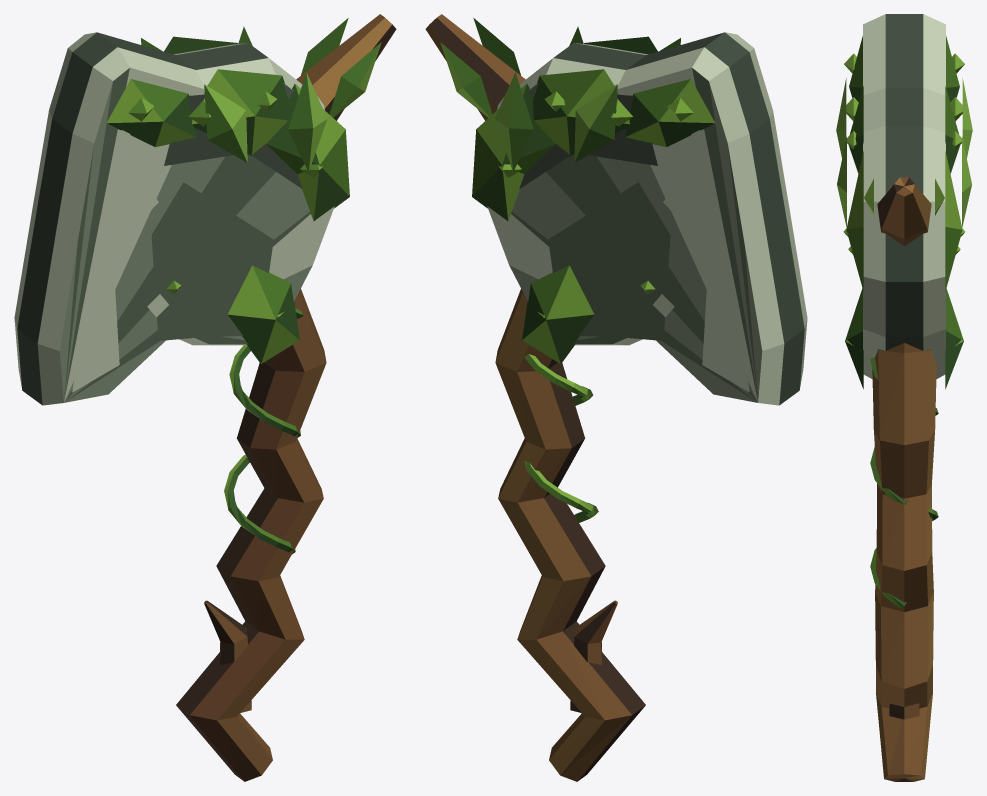
File: nature_axe.glb
3 views of the same model, side by side, from view 1: azimuth 30°, elevation 25°; view 2: azimuth 150°, elevation 25°; view 3: azimuth 270°, elevation 25° (orthographic). The views are drawn at different scales.
Visible parts, largest first — view 1: 04_Stone_Blade, 01_Branch_Handle, 05_Stone_Facets, 06_Raised_Moss, 08_Leaves, 02_Branch_Poll, 09_Winding_Vine, 03_Root_Splinters, 07_Moss_Chunks, 10_Stone_Flecks; view 2: 04_Stone_Blade, 01_Branch_Handle, 05_Stone_Facets, 06_Raised_Moss, 08_Leaves, 02_Branch_Poll, 09_Winding_Vine, 03_Root_Splinters, 07_Moss_Chunks, 10_Stone_Flecks; view 3: 04_Stone_Blade, 01_Branch_Handle, 06_Raised_Moss, 02_Branch_Poll, 08_Leaves, 07_Moss_Chunks, 09_Winding_Vine, 03_Root_Splinters.
Part boxes in pixels (x1=…): 04_Stone_Blade: x1=14, y1=32, x2=334, y2=405; 01_Branch_Handle: x1=176, y1=288, x2=326, y2=781; 05_Stone_Facets: x1=72, y1=94, x2=302, y2=392; 06_Raised_Moss: x1=107, y1=36, x2=349, y2=363; 08_Leaves: x1=141, y1=18, x2=381, y2=171; 02_Branch_Poll: x1=296, y1=14, x2=396, y2=120; 09_Winding_Vine: x1=224, y1=308, x2=303, y2=554; 03_Root_Splinters: x1=204, y1=600, x2=251, y2=712; 07_Moss_Chunks: x1=128, y1=91, x2=323, y2=318; 10_Stone_Flecks: x1=84, y1=191, x2=168, y2=361; 04_Stone_Blade: x1=487, y1=32, x2=807, y2=405; 01_Branch_Handle: x1=495, y1=288, x2=645, y2=781; 05_Stone_Facets: x1=519, y1=94, x2=749, y2=392; 06_Raised_Moss: x1=472, y1=36, x2=714, y2=363; 08_Leaves: x1=440, y1=18, x2=680, y2=171; 02_Branch_Poll: x1=425, y1=14, x2=525, y2=120; 09_Winding_Vine: x1=524, y1=354, x2=598, y2=522; 03_Root_Splinters: x1=570, y1=600, x2=617, y2=712; 07_Moss_Chunks: x1=498, y1=91, x2=693, y2=318; 10_Stone_Flecks: x1=653, y1=191, x2=737, y2=361; 04_Stone_Blade: x1=863, y1=14, x2=945, y2=379; 01_Branch_Handle: x1=872, y1=343, x2=936, y2=781; 06_Raised_Moss: x1=845, y1=36, x2=963, y2=389; 02_Branch_Poll: x1=877, y1=177, x2=931, y2=246; 08_Leaves: x1=836, y1=78, x2=972, y2=226; 07_Moss_Chunks: x1=843, y1=53, x2=965, y2=345; 09_Winding_Vine: x1=870, y1=357, x2=938, y2=609; 03_Root_Splinters: x1=889, y1=703, x2=919, y2=719.
Size of the model in its own units: 0.5756 by 1.16 by 0.202.
